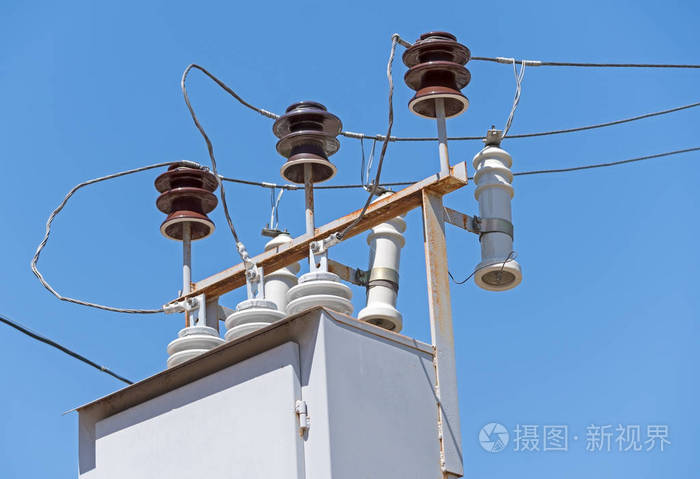insulator: (401, 40, 475, 112), (151, 166, 216, 242), (272, 108, 345, 175)
